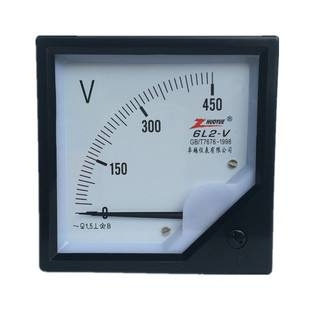pointer: (48, 45, 262, 263)
